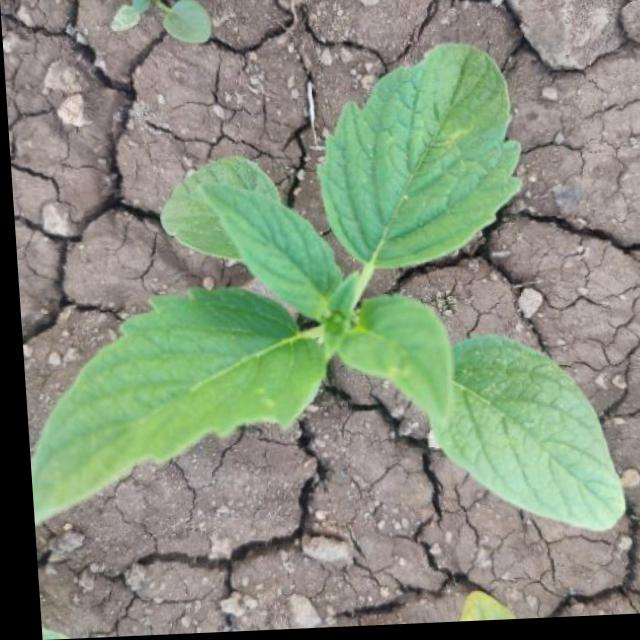crop: (4, 36, 640, 575)
